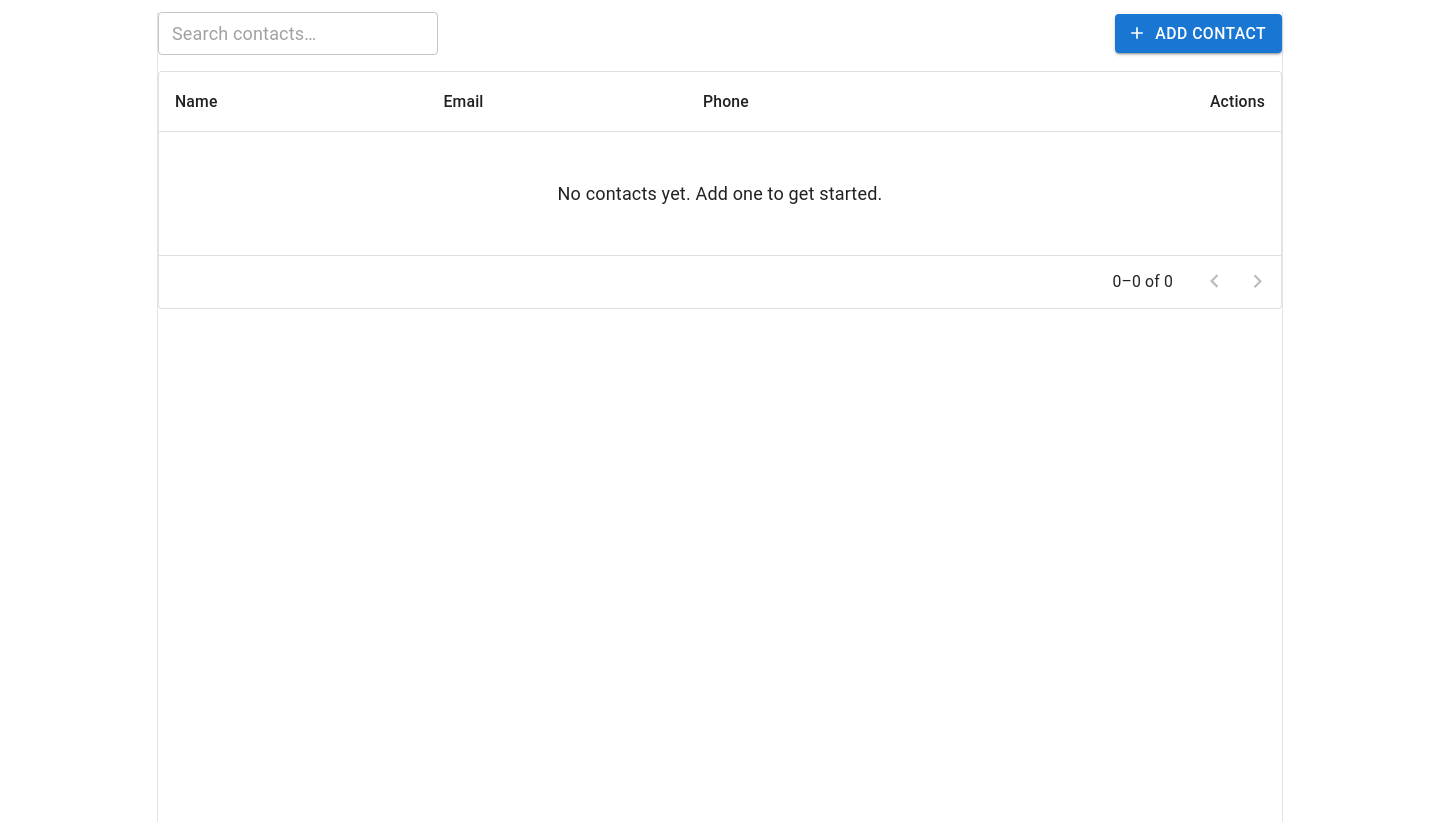
it: ContactListPage › shows no-match message when search returns empty
The image size is (1440, 822).
Type "xyz" into the field with placeholder "Search contacts…" at (298, 33), box [158, 12, 438, 55]
Wait 300 ms
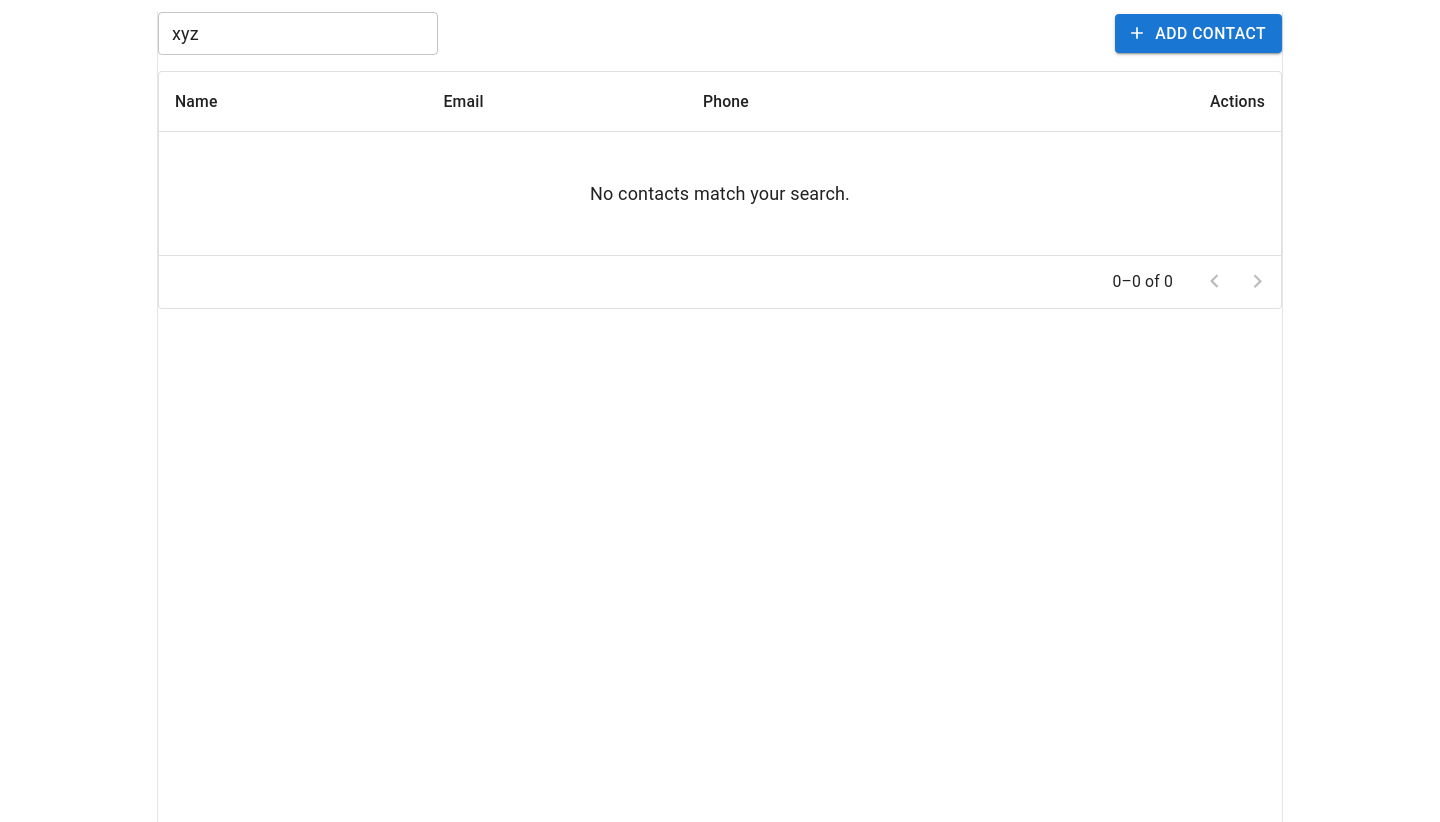
Check: the text "No contacts match your search." is shown, box [590, 183, 850, 204]
